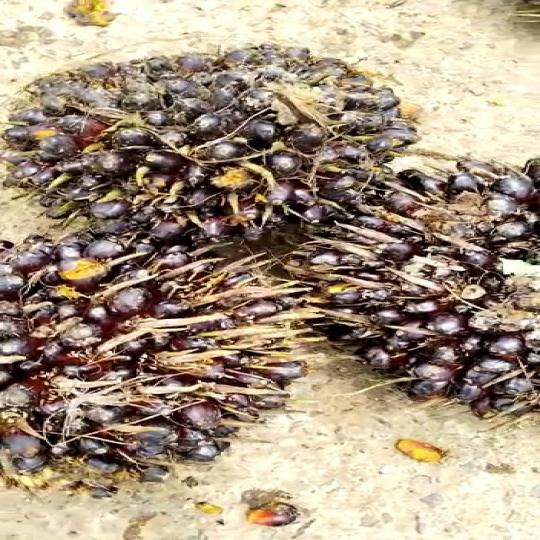mentah: (0, 217, 325, 499), (4, 36, 395, 249), (304, 139, 540, 420)
